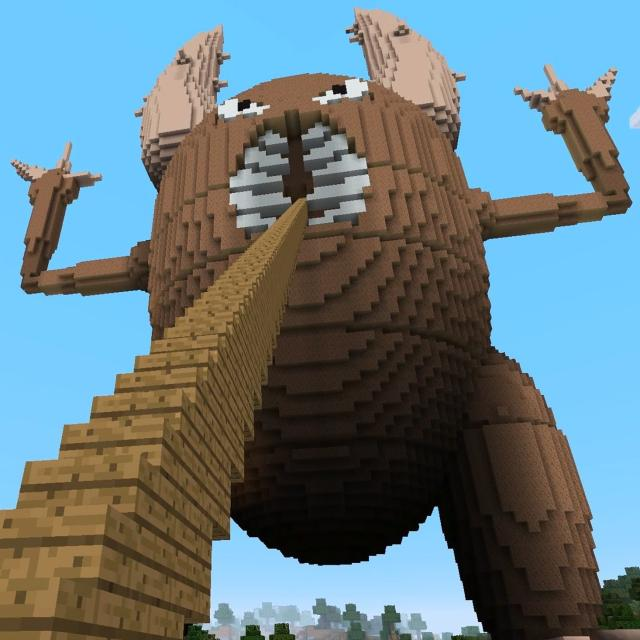Pinsir: (114, 8, 513, 562)
